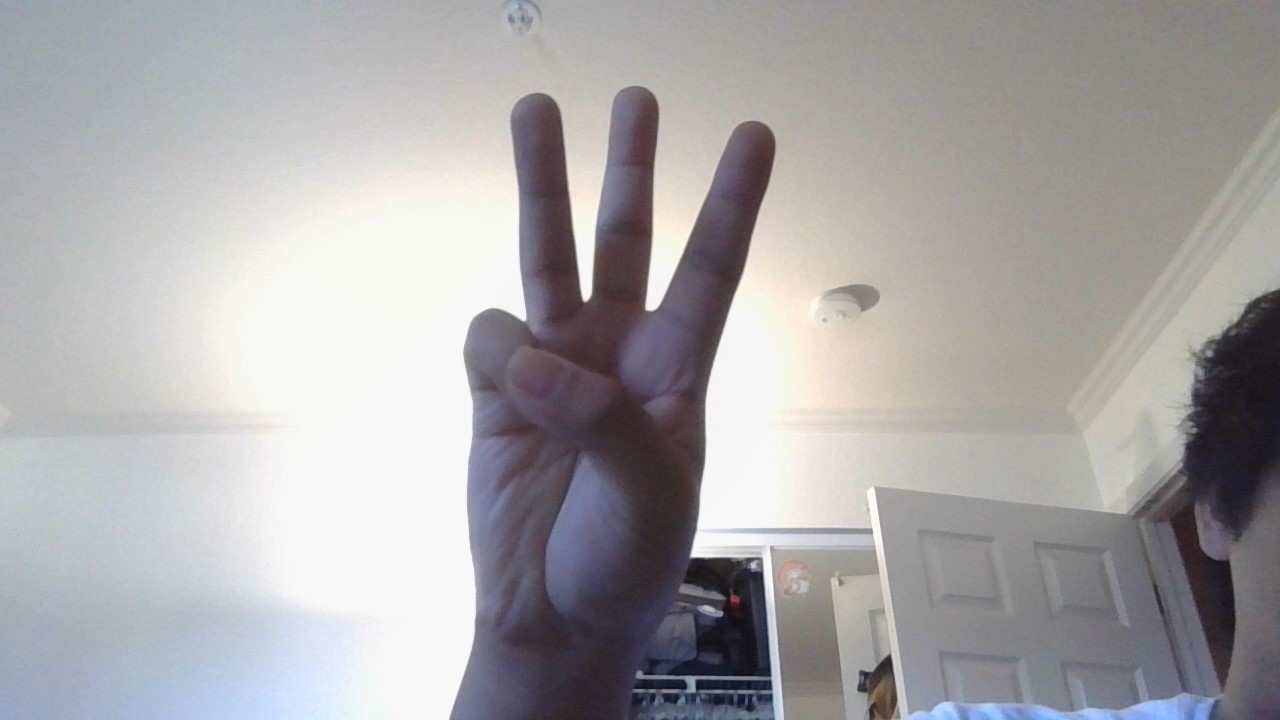w: (402, 69, 797, 648)
